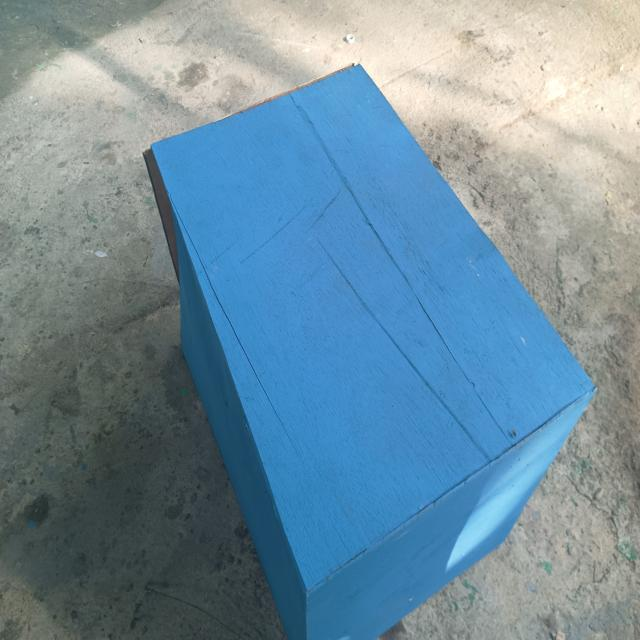blue_box: (136, 52, 598, 640)
